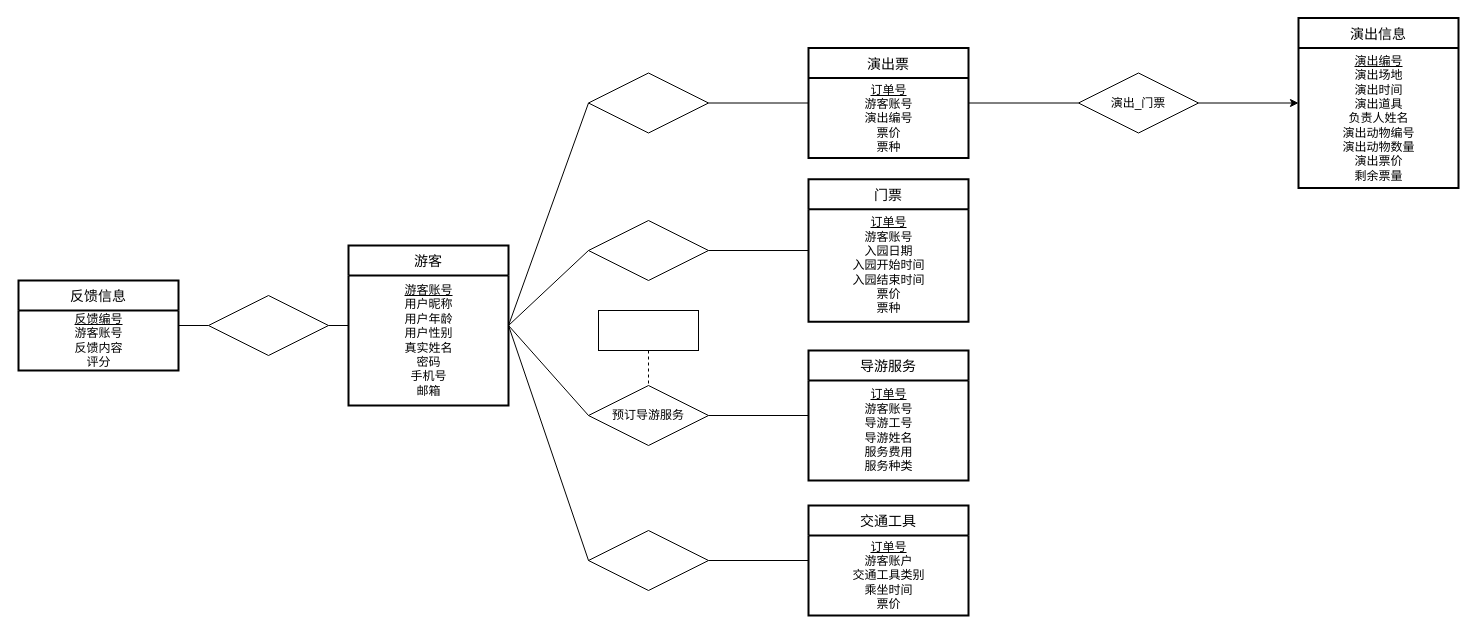
The diagram is 1476 pixels wide and 634 high, and some of its shapes have lost their labels. Each missing label, with the centre of its shape:
"参与日期 参与工作/职务" goes at [648,330].
"反馈" goes at [268,325].
"预订交通工具" goes at [648,560].
"预订演出票" goes at [648,102].
"预订门票" goes at [648,250].
